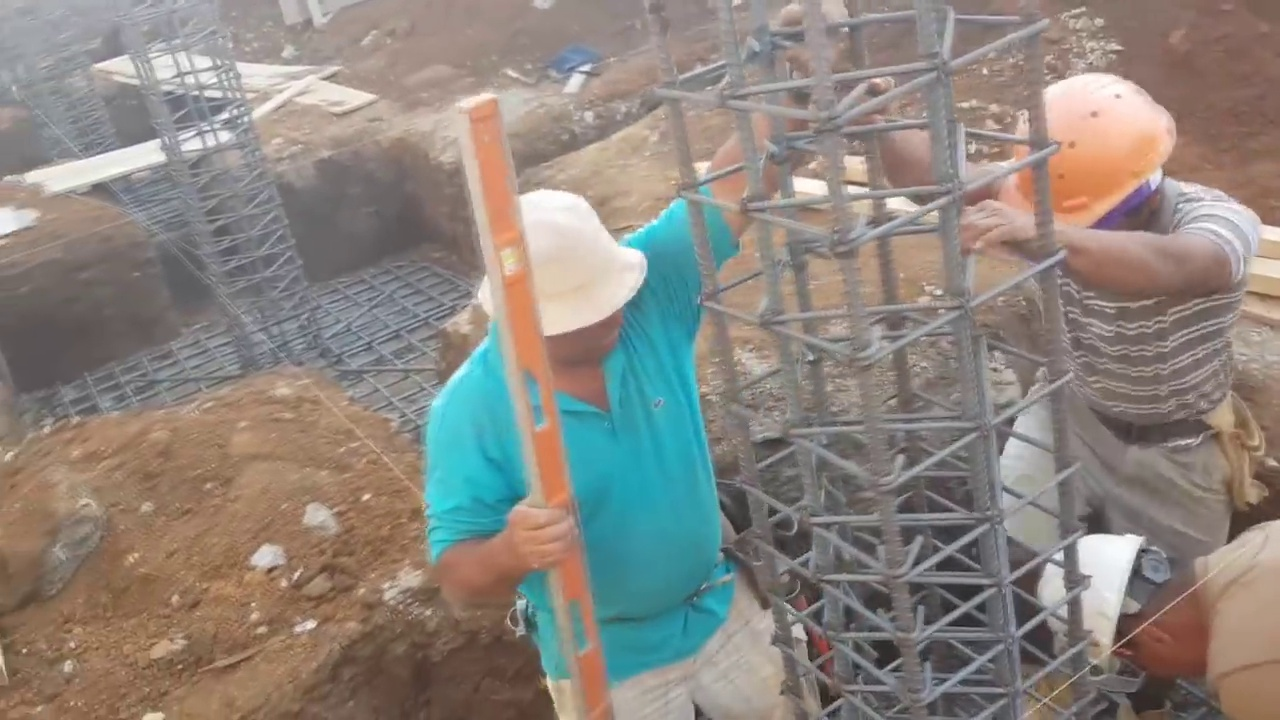helmet: (997, 70, 1176, 226)
helmet-off: (475, 184, 643, 394)
helmet-on: (995, 69, 1182, 252), (1036, 531, 1216, 684)
person: (407, 4, 847, 713), (856, 69, 1238, 554), (1031, 515, 1280, 720)
